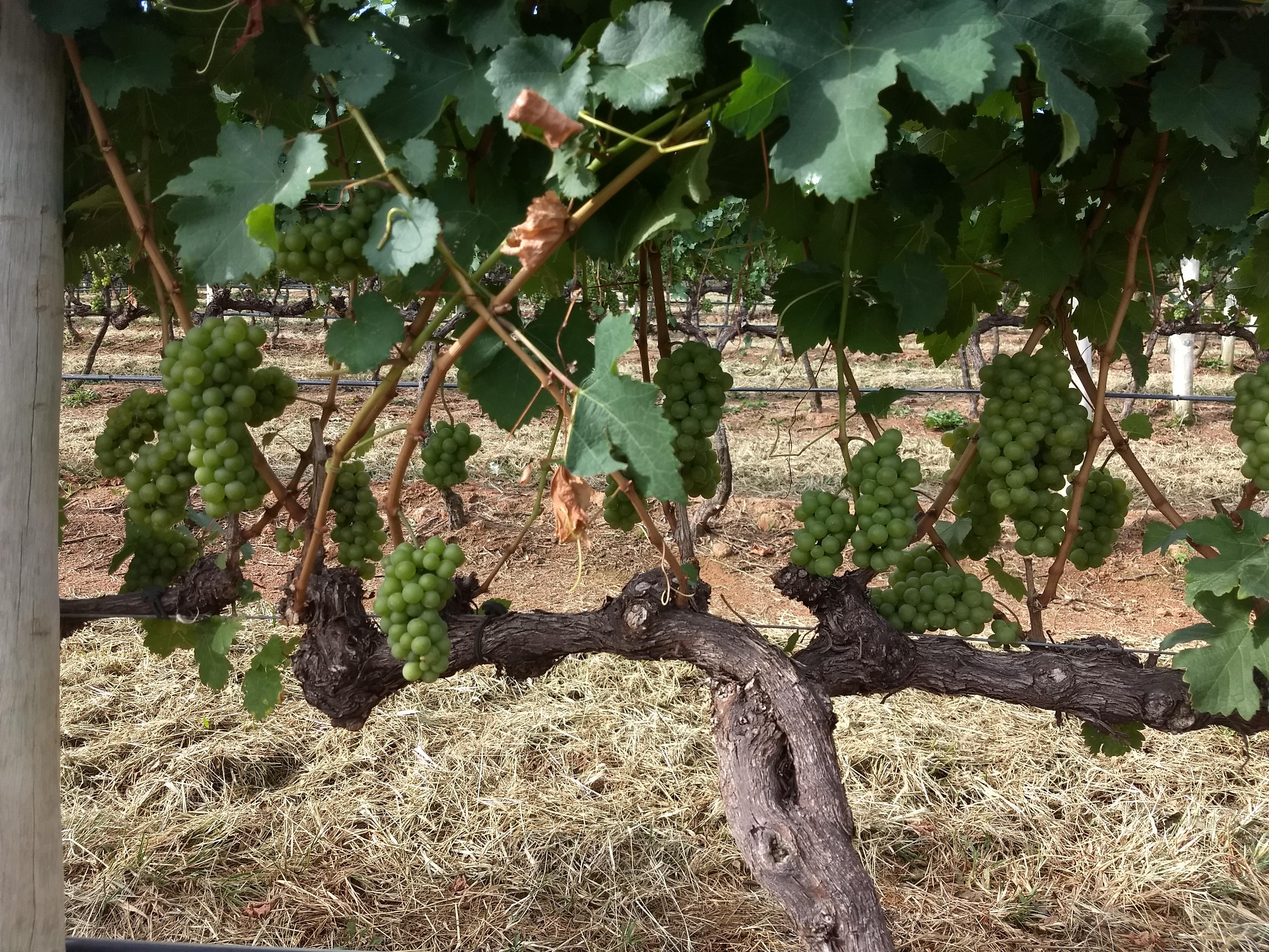leaf: (736, 0, 998, 200), (986, 0, 1152, 164), (167, 122, 325, 284), (566, 315, 686, 502), (366, 17, 498, 140), (1160, 591, 1268, 718), (592, 0, 703, 111), (1151, 46, 1260, 157), (460, 332, 554, 430), (485, 35, 591, 117), (82, 23, 176, 109), (1184, 510, 1268, 604), (307, 17, 395, 106), (1000, 214, 1081, 297), (324, 292, 403, 372), (1178, 152, 1260, 229), (364, 194, 441, 276), (876, 251, 949, 334), (523, 298, 594, 380), (242, 635, 297, 719), (449, 0, 522, 51), (194, 618, 242, 689), (28, 0, 108, 36), (1081, 722, 1143, 756), (856, 386, 916, 417), (729, 73, 772, 114), (245, 203, 278, 251), (505, 120, 519, 134), (746, 122, 752, 126), (1195, 560, 1202, 561), (632, 467, 634, 469), (732, 126, 735, 127), (1155, 27, 1157, 28), (548, 97, 548, 97)
